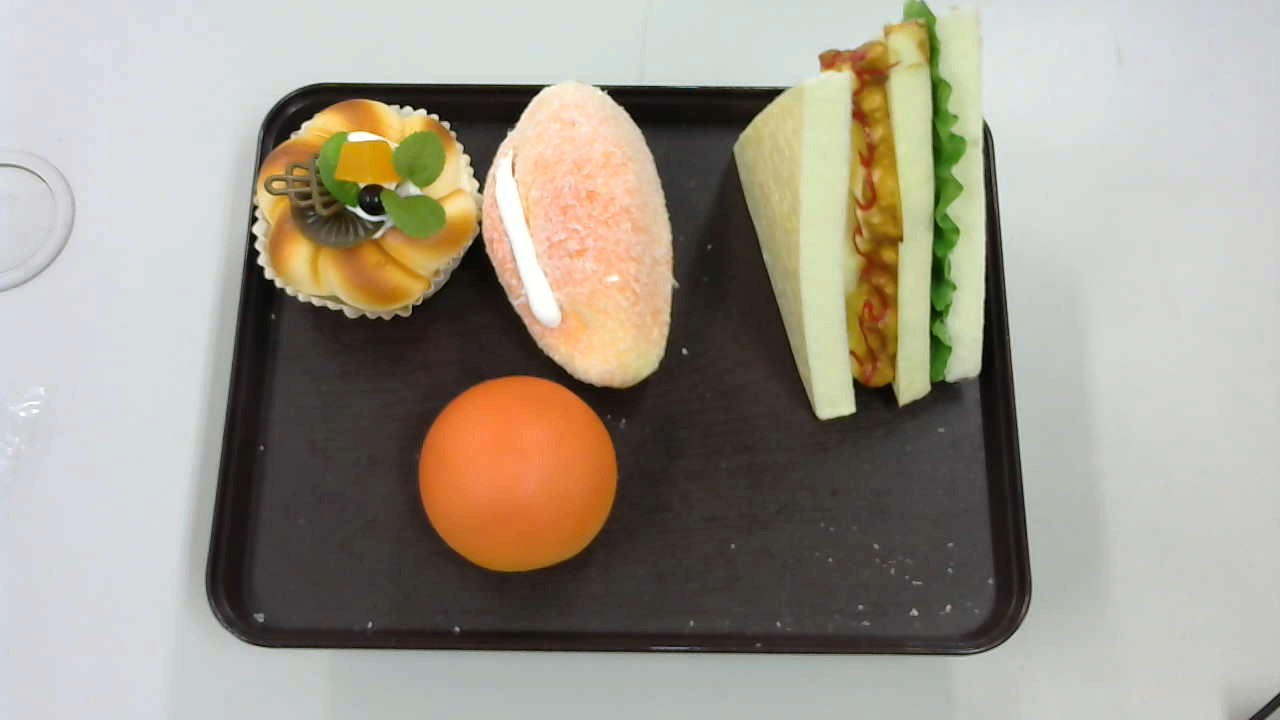bun: (419, 375, 620, 573)
coconut: (482, 81, 675, 392)
fruit tart: (252, 97, 484, 323)
sandwich: (730, 2, 987, 422)
